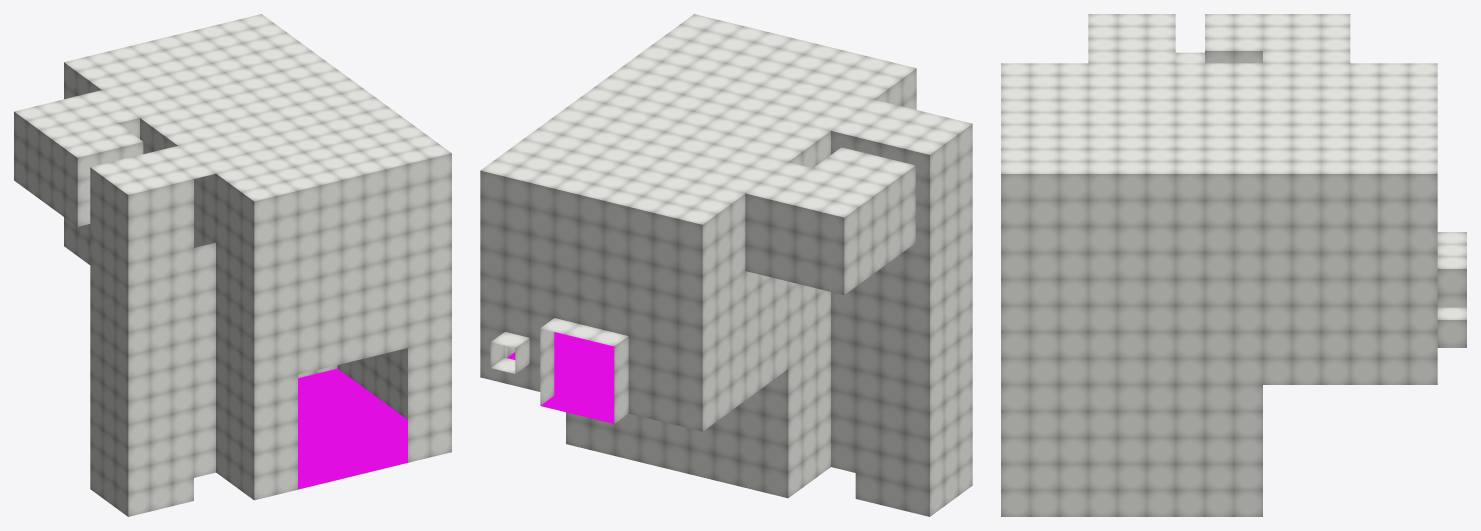
The model's file is elevation.fbx.
The picture shows the model from 3 angles, left to right: view 1: azimuth 30°, elevation 25°; view 2: azimuth 150°, elevation 25°; view 3: azimuth 270°, elevation 25°; orthographic projection. The views are drawn at different scales.
Parts seen in each view (by area): view 1: elevation; view 2: elevation; view 3: elevation.
Boxes of the visible parts, x1=… form: elevation: x1=14, y1=14, x2=451, y2=516; elevation: x1=480, y1=14, x2=972, y2=516; elevation: x1=1001, y1=14, x2=1466, y2=516.
Size of the model in its own units: 16 by 13 by 14.
Materials: 2 (1 with a texture image).
